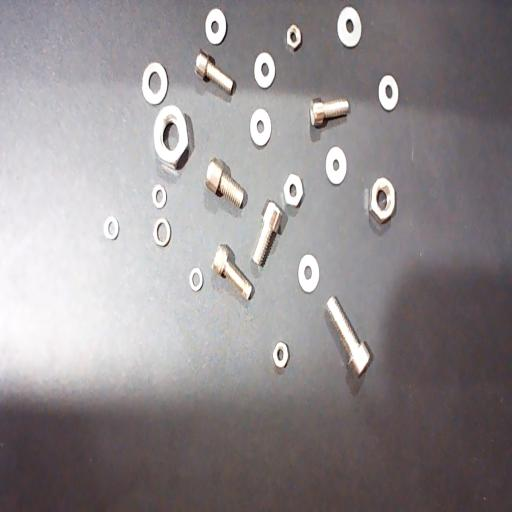nut: (154, 105, 189, 171), (368, 176, 394, 224), (283, 173, 303, 208), (273, 341, 289, 369), (287, 23, 301, 52)
screw: (326, 296, 372, 378), (212, 244, 252, 301), (252, 200, 282, 267), (206, 158, 246, 208), (195, 49, 233, 97), (310, 97, 350, 128)
washer: (142, 63, 168, 105), (338, 6, 362, 48), (298, 255, 320, 292), (250, 109, 271, 147), (254, 52, 275, 89), (326, 147, 347, 184), (205, 9, 226, 45), (378, 75, 399, 111), (153, 218, 171, 247), (104, 216, 119, 240), (190, 268, 204, 291), (153, 185, 166, 209)
